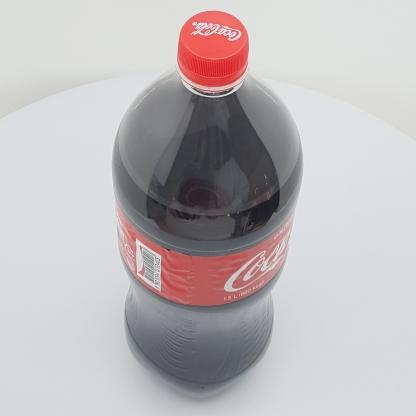----1-5L: (112, 10, 303, 399)
